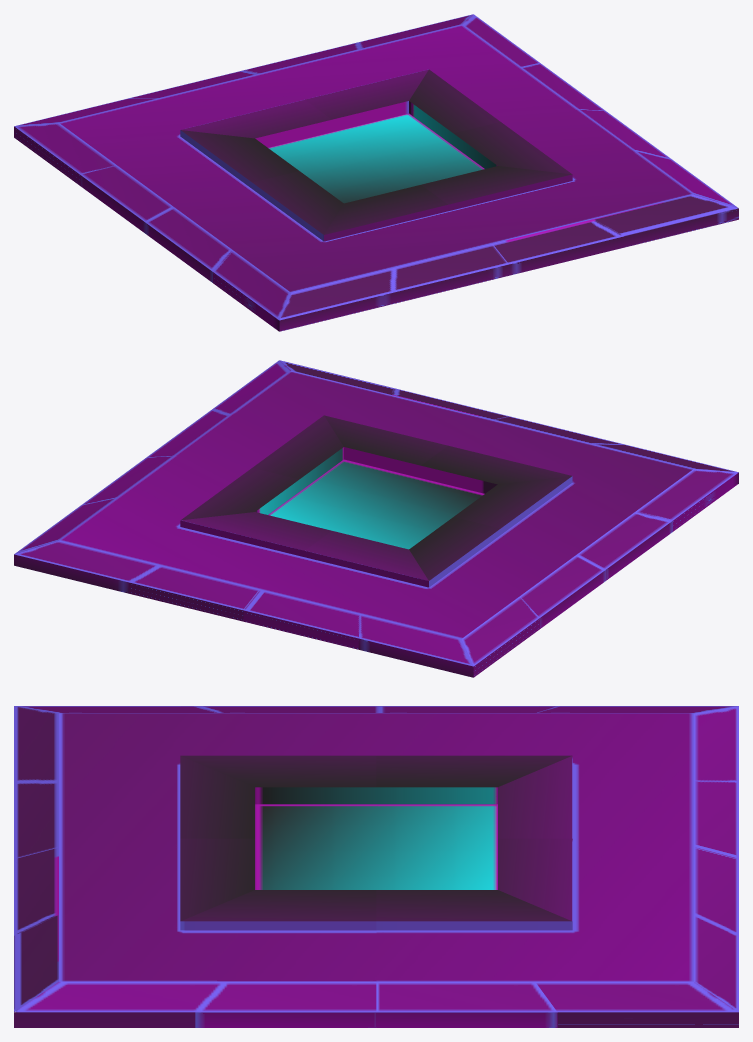
The model's file is Trampoline.fbx.
3 views of the same model, one above another, from view 1: azimuth 30°, elevation 25°; view 2: azimuth 150°, elevation 25°; view 3: azimuth 270°, elevation 25° (orthographic). The views are drawn at different scales.
Parts seen in each view (by area): view 1: Cube; view 2: Cube; view 3: Cube.
Boxes of the visible parts, <box> form: Cube: <box>14,14,738,331</box>; Cube: <box>14,360,738,677</box>; Cube: <box>14,706,738,1027</box>.
Bounding box in the file's own units: 1000 × 54.95 × 1000.
